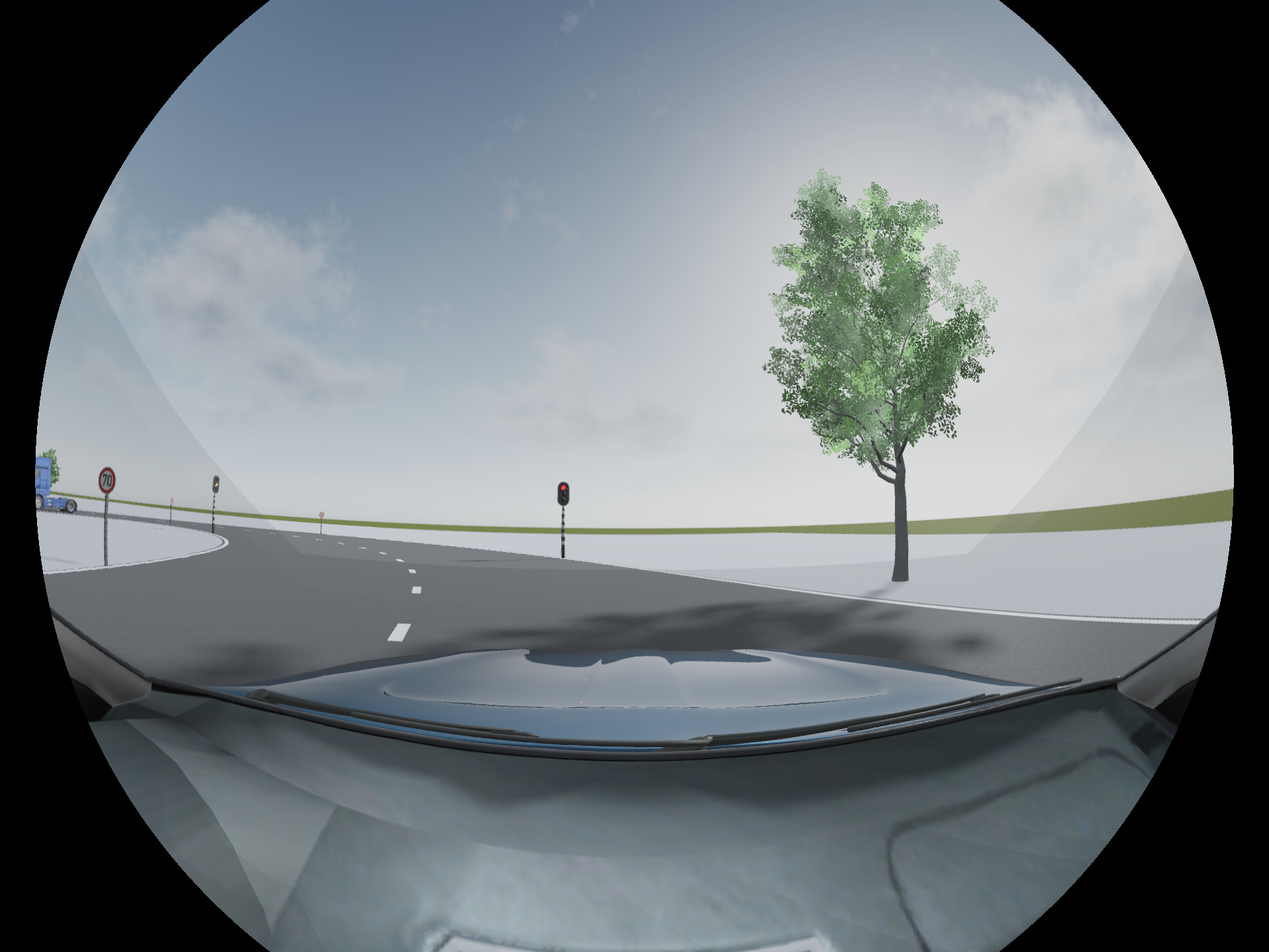Red Light: (557, 480, 570, 507)
Speed Limit 70: (98, 466, 118, 494)
